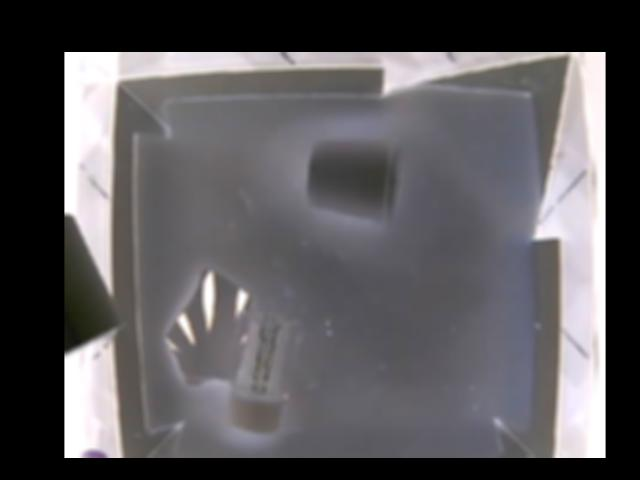Bottle: (224, 309, 295, 434)
China: (159, 264, 257, 389)
Cup: (305, 139, 404, 222)
